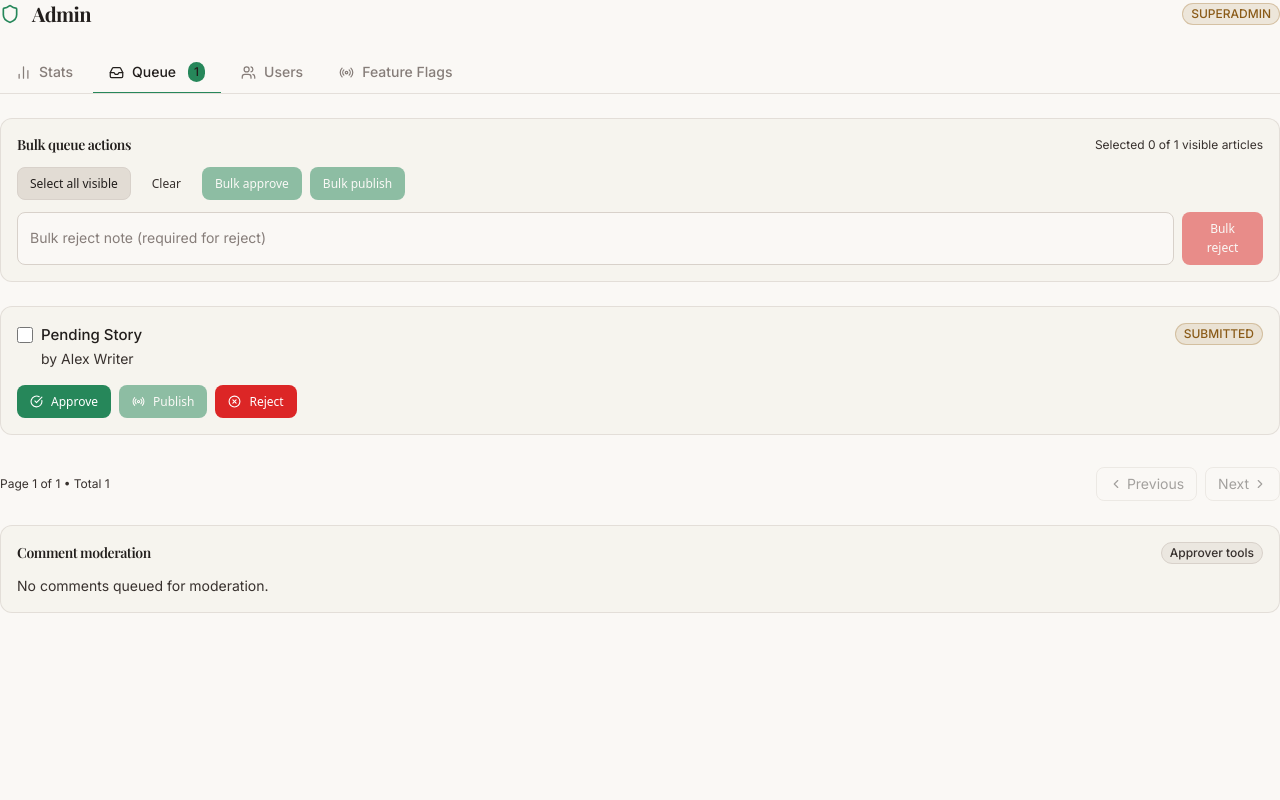
AdminPage › shows superadmin tabs and stats content
Click the button "Stats".
click(44, 73)  # box [0,52,89,94]
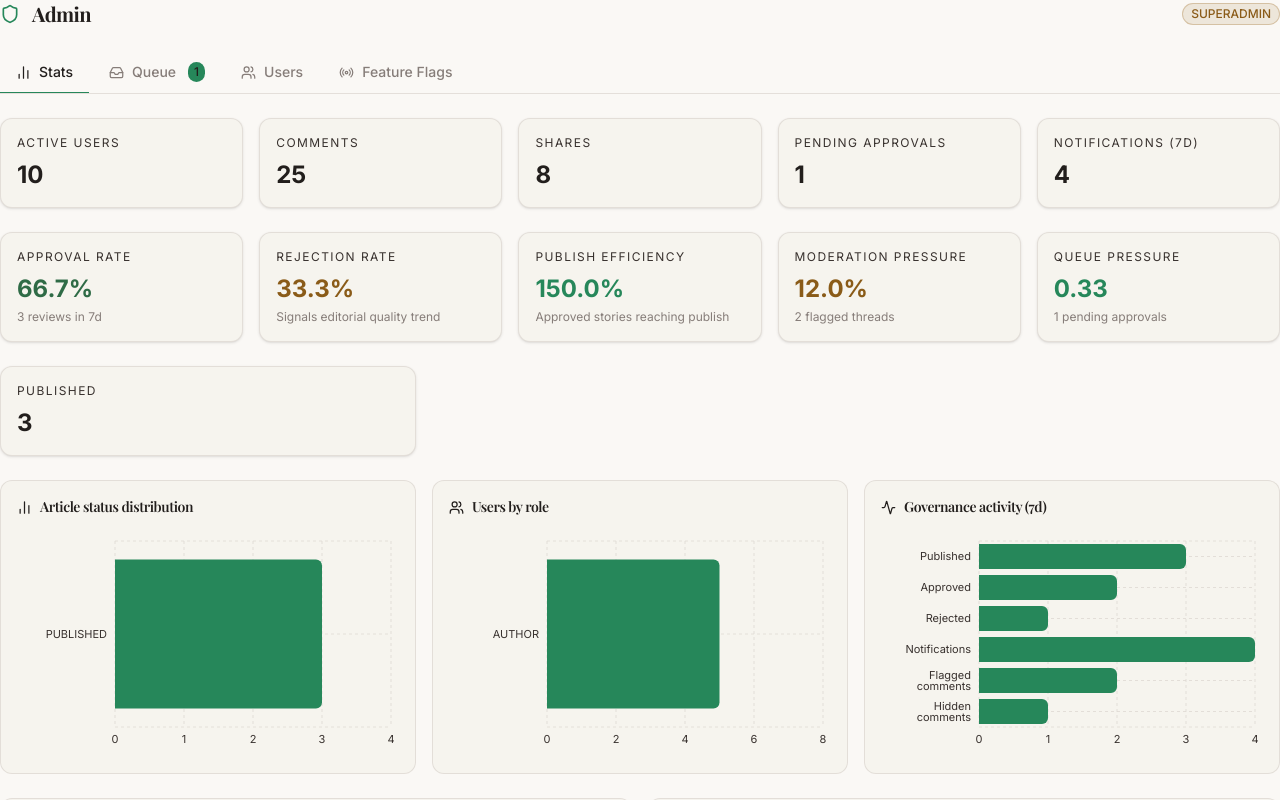
Expected: the button "Users" is shown, [225,52,319,94]
Expected: the text "Active users" is shown, [17,135,120,151]
Expected: the heading "Users by role" is shown, [472,497,548,517]
